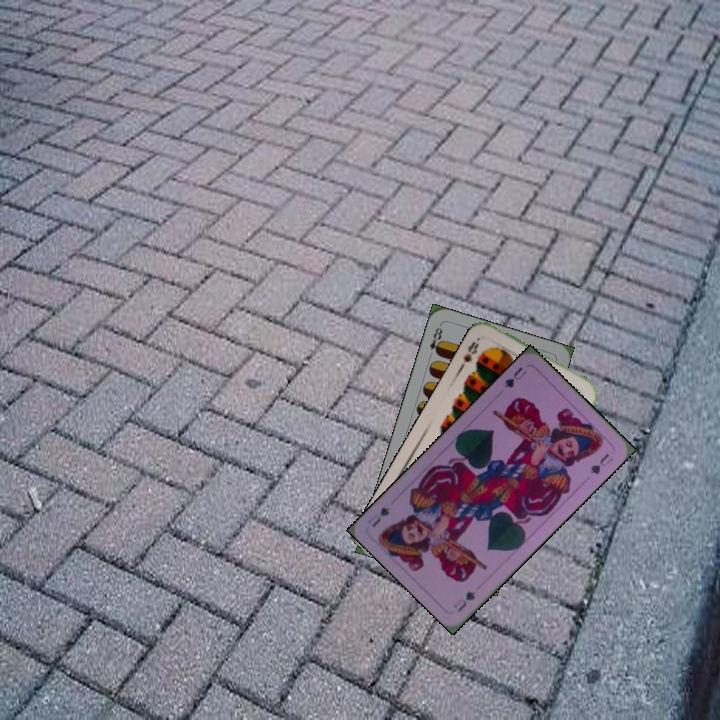E8: (425, 321, 445, 360)
GU: (500, 363, 529, 391), (450, 587, 478, 615)
S8: (457, 337, 481, 370)
